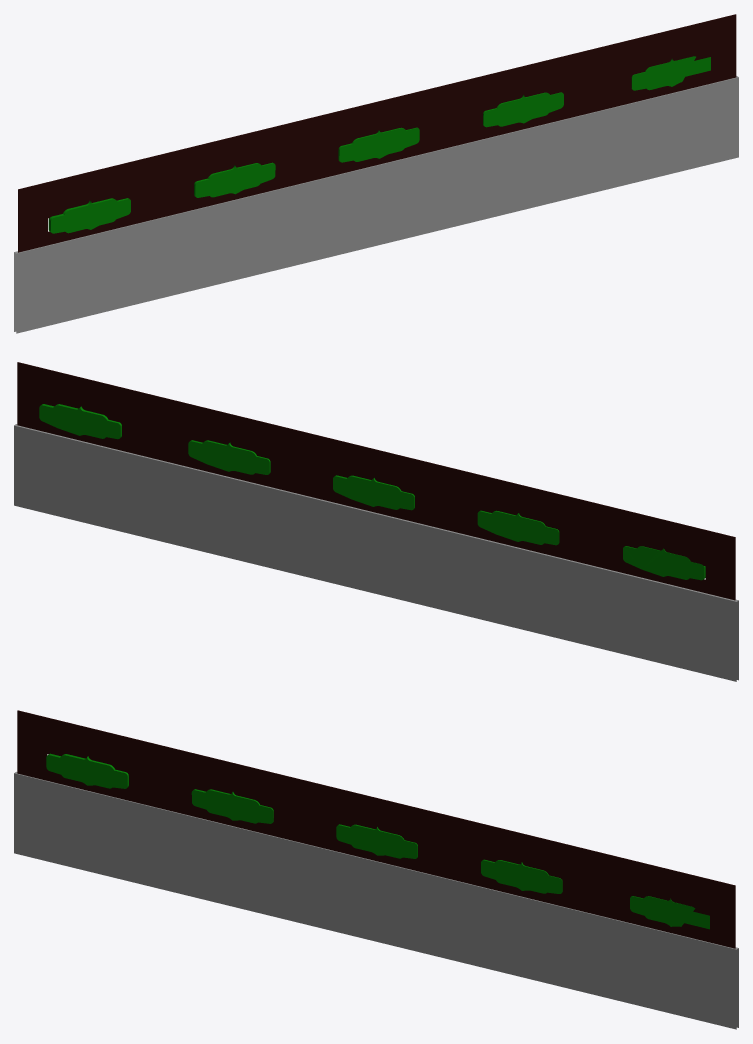
The model's file is Throne_Fence_Long.fbx.
3 views of the same model, one above another, from view 1: azimuth 30°, elevation 25°; view 2: azimuth 150°, elevation 25°; view 3: azimuth 330°, elevation 25° (orthographic).
Parts seen in each view (by area): view 1: Throne_Fence_Long (×2), Throne_StairWall008; view 2: Throne_Fence_Long (×2), Throne_StairWall008; view 3: Throne_Fence_Long (×2), Throne_StairWall008.
Boxes of the visible parts, <box> form: Throne_Fence_Long (×2): <box>14,56,738,333</box>; Throne_StairWall008: <box>18,14,736,252</box>; Throne_Fence_Long (×2): <box>14,404,738,681</box>; Throne_StairWall008: <box>17,362,735,600</box>; Throne_Fence_Long (×2): <box>14,753,738,1029</box>; Throne_StairWall008: <box>17,710,735,948</box>.
Bounding box in the file's own units: 179 × 33.82 × 1.81.
